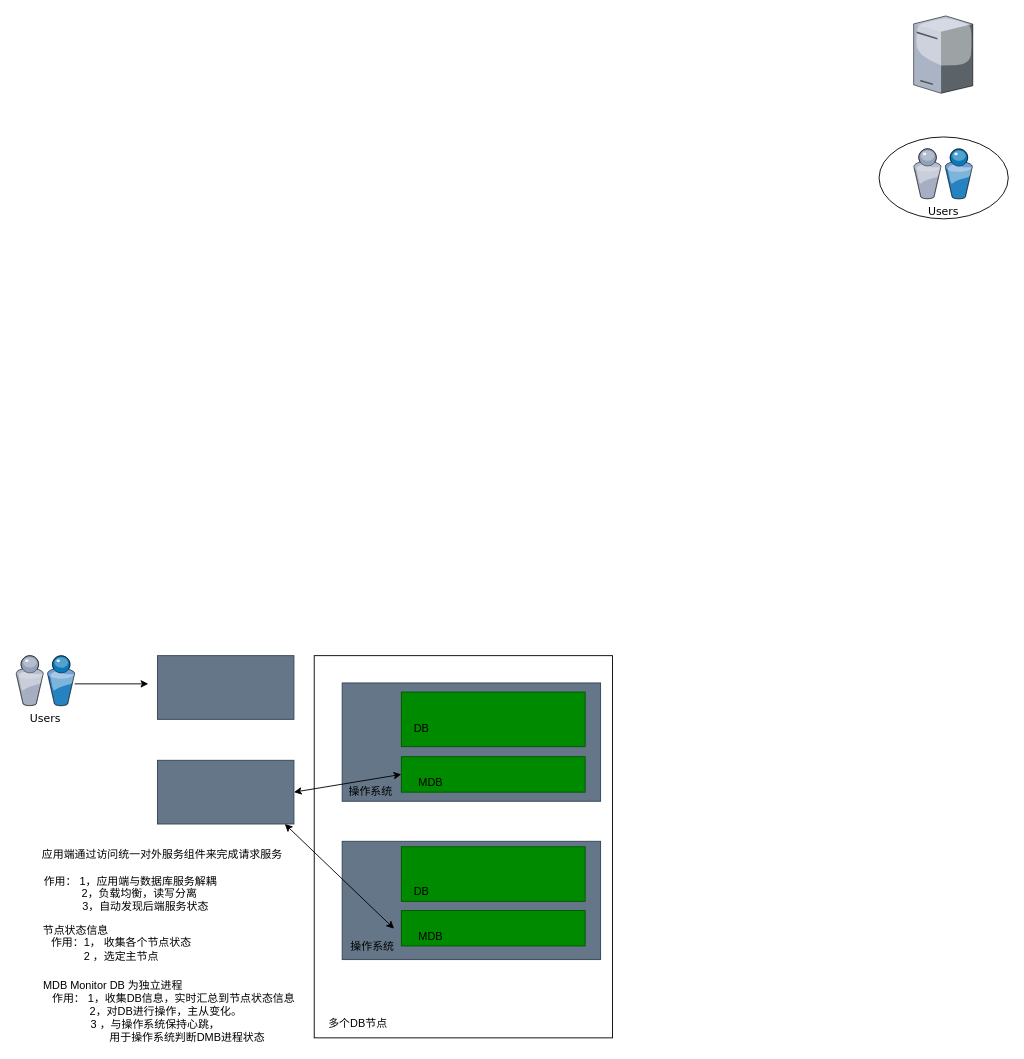
Some shapes in this 1024 by 1059 pixel diagram are drawn without their labels. The centre of each missing label's shape, as x and y in pixels:
各节点状态信息: [225,791]
统一对外提供服务: [225,687]
